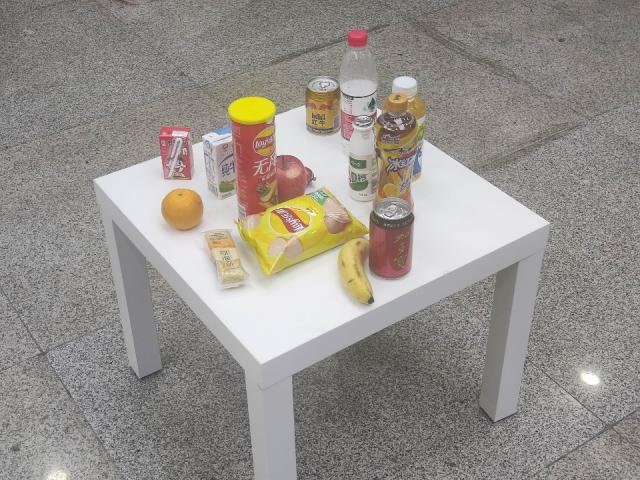Canned_drinks: (370, 197, 411, 278), (306, 78, 340, 135)
bottle: (336, 25, 382, 157)
cylinder: (224, 96, 282, 219)
drink_box: (200, 125, 240, 202), (152, 122, 196, 183)
